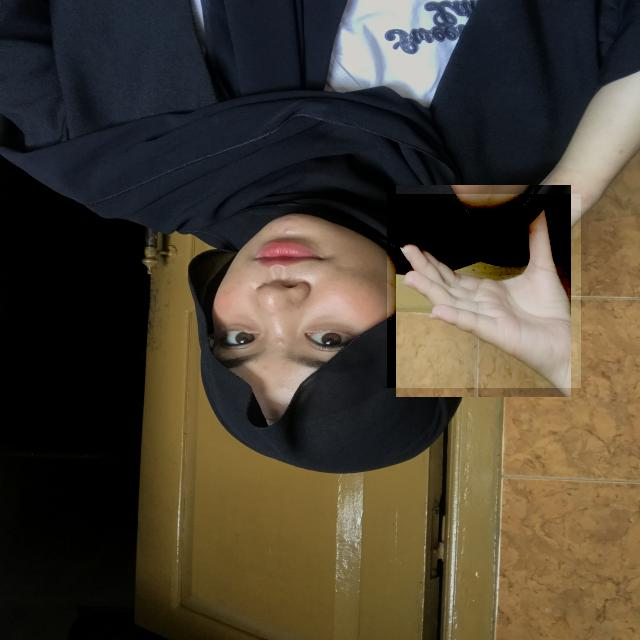mendengar: (387, 194, 581, 388)
